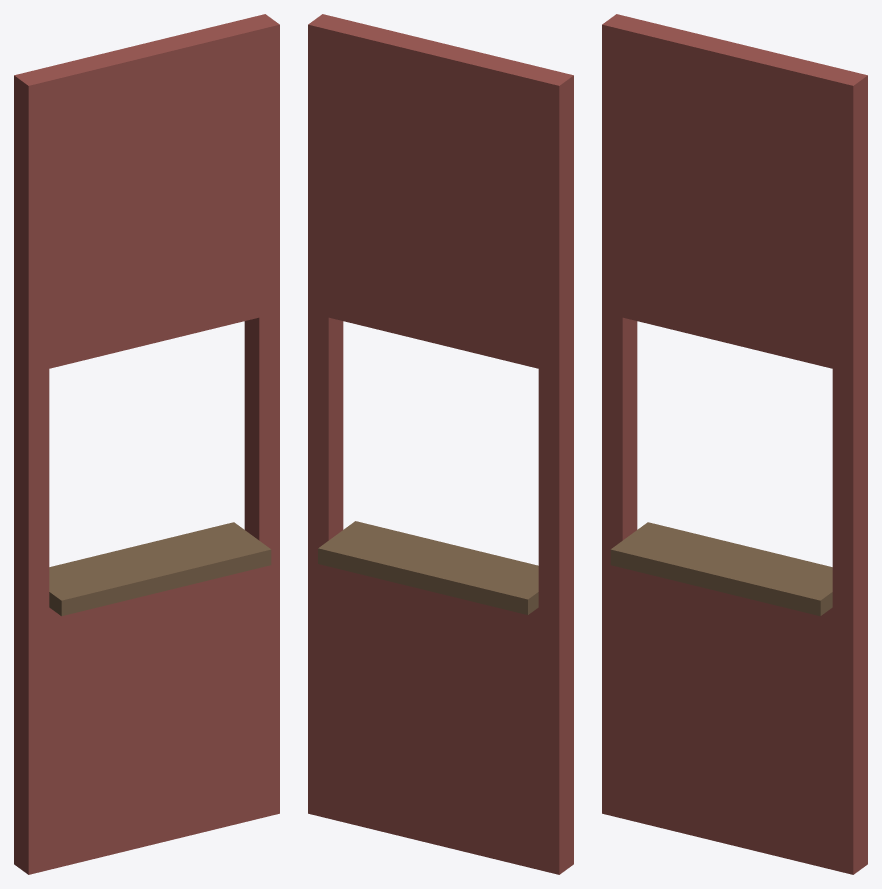
File: Mesh_Wall_C2.fbx
3 views of the same model, side by side, from view 1: azimuth 30°, elevation 25°; view 2: azimuth 150°, elevation 25°; view 3: azimuth 330°, elevation 25° (orthographic).
Parts seen in each view (by area): view 1: Mesh_Wall_C2; view 2: Mesh_Wall_C2; view 3: Mesh_Wall_C2.
Boxes of the visible parts, x1=… form: Mesh_Wall_C2: x1=14, y1=14, x2=279, y2=874; Mesh_Wall_C2: x1=308, y1=14, x2=573, y2=874; Mesh_Wall_C2: x1=602, y1=14, x2=867, y2=874.
Size of the model in its own units: 1 by 3 by 0.2574.
